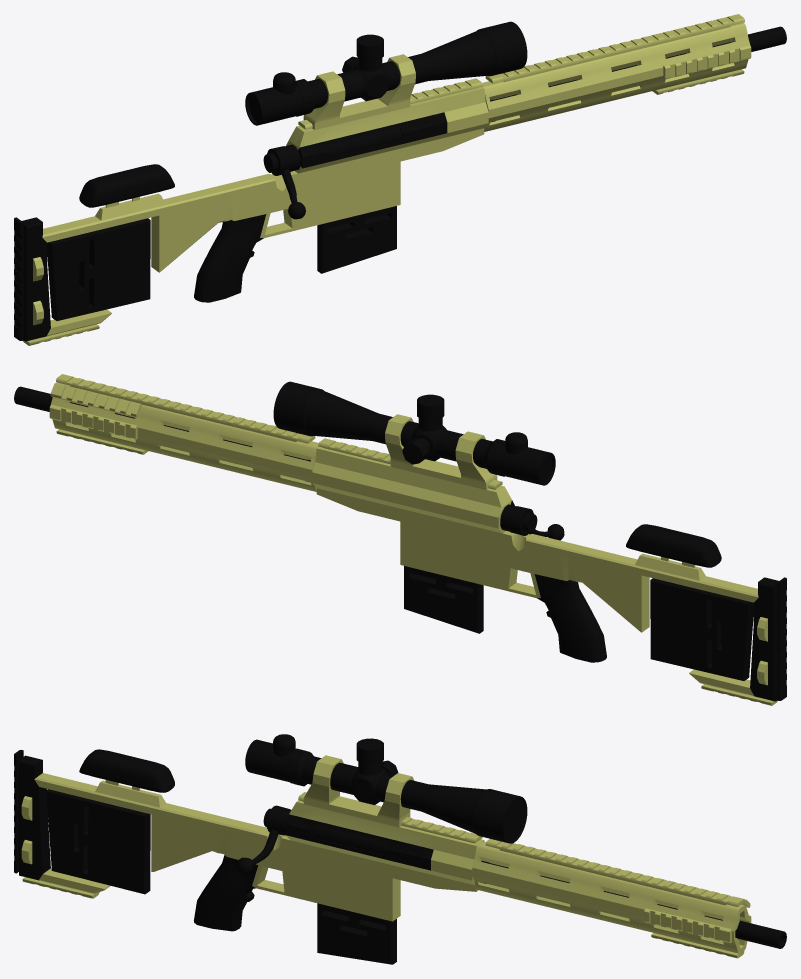
Rendered from msr_prop.fbx.
The picture shows the model from 3 angles, top to bottom: view 1: azimuth 30°, elevation 25°; view 2: azimuth 150°, elevation 25°; view 3: azimuth 330°, elevation 25°; orthographic projection.
Parts seen in each view (by area): view 1: polySurface8, pCylinder5, msr6:pSphere7, msr6:pCube14, msr6:pCube13, pCube1, msr6:pCube15, polySurface6, polySurface11, msr6:polySurface1, msr6:pSphere3, msr6:polySurface3 (+1 smaller); view 2: polySurface8, msr6:pSphere7, pCylinder5, msr6:pCube14, msr6:pCube13, pCube1, msr6:pCube15, polySurface6, polySurface13, polySurface12, msr6:polySurface3, msr6:pSphere3 (+1 smaller); view 3: polySurface8, pCylinder5, msr6:pSphere7, msr6:pCube14, msr6:pCube13, pCube1, msr6:pCube15, polySurface6, polySurface11, msr6:polySurface1, pCylinder6, msr6:pSphere3 (+4 smaller).
Part boxes in pixels (x1,y1,x2,y2): polySurface8: [22, 78, 488, 341]; pCylinder5: [482, 22, 749, 131]; msr6:pSphere7: [245, 21, 527, 125]; msr6:pCube14: [47, 218, 150, 320]; msr6:pCube13: [317, 206, 396, 273]; pCube1: [303, 54, 415, 129]; msr6:pCube15: [79, 164, 174, 207]; polySurface6: [485, 14, 744, 83]; polySurface11: [663, 45, 751, 79]; msr6:polySurface1: [285, 99, 495, 171]; msr6:pSphere3: [263, 146, 305, 219]; msr6:polySurface3: [14, 217, 23, 340]; polySurface8: [312, 438, 778, 701]; msr6:pSphere7: [273, 381, 555, 485]; pCylinder5: [51, 382, 318, 491]; msr6:pCube14: [650, 578, 753, 680]; msr6:pCube13: [404, 566, 483, 633]; pCube1: [385, 414, 497, 489]; msr6:pCube15: [626, 524, 721, 567]; polySurface6: [56, 374, 315, 443]; polySurface13: [50, 383, 141, 417]; polySurface12: [49, 405, 137, 439]; msr6:polySurface3: [777, 577, 786, 700]; msr6:pSphere3: [508, 506, 564, 540]; polySurface8: [18, 755, 484, 931]; pCylinder5: [472, 841, 750, 953]; msr6:pSphere7: [245, 734, 527, 843]; msr6:pCube14: [46, 789, 150, 894]; msr6:pCube13: [317, 903, 396, 964]; pCube1: [303, 755, 414, 827]; msr6:pCube15: [79, 749, 174, 792]; polySurface6: [485, 839, 744, 906]; polySurface11: [644, 908, 731, 942]; msr6:polySurface1: [279, 809, 489, 883]; pCylinder6: [489, 863, 786, 948]; msr6:pSphere3: [236, 805, 290, 874].
Bounding box in the file's own units: 119 × 32.7 × 13.1.
